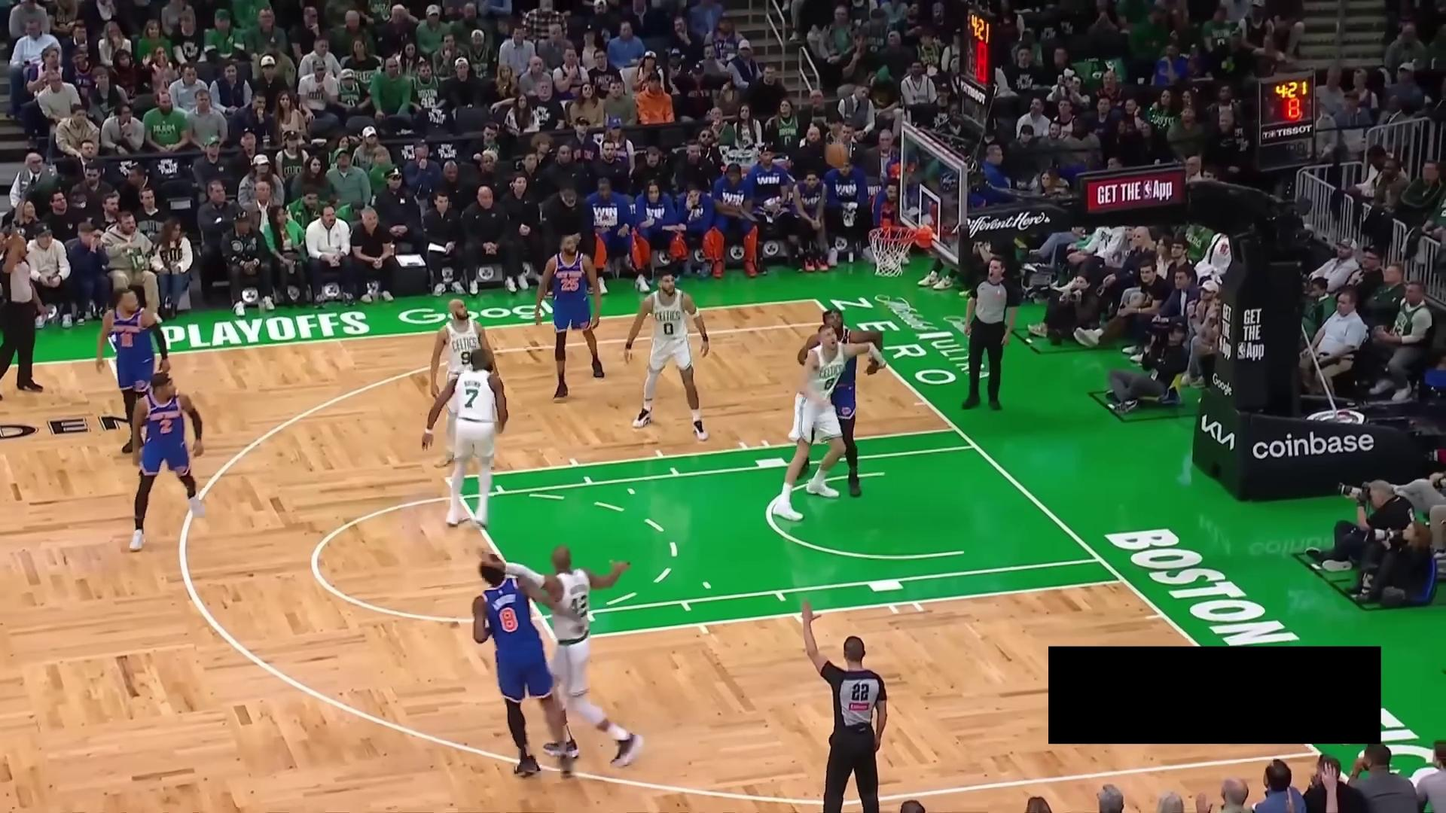ball: (823, 142, 850, 168)
number: (499, 606, 518, 633), (572, 594, 588, 619), (464, 388, 479, 409), (560, 276, 580, 291), (120, 330, 135, 348), (159, 418, 173, 435), (459, 349, 472, 367), (823, 376, 837, 392), (662, 321, 675, 336)
player: (472, 542, 644, 770), (471, 547, 575, 780), (772, 323, 887, 521), (796, 307, 886, 498), (421, 345, 509, 529), (623, 269, 711, 443), (127, 369, 207, 552), (94, 285, 171, 455), (533, 231, 605, 402), (429, 297, 499, 468)
referee: (801, 598, 888, 813), (961, 254, 1020, 412), (0, 222, 48, 401)
rim: (868, 224, 917, 243)
